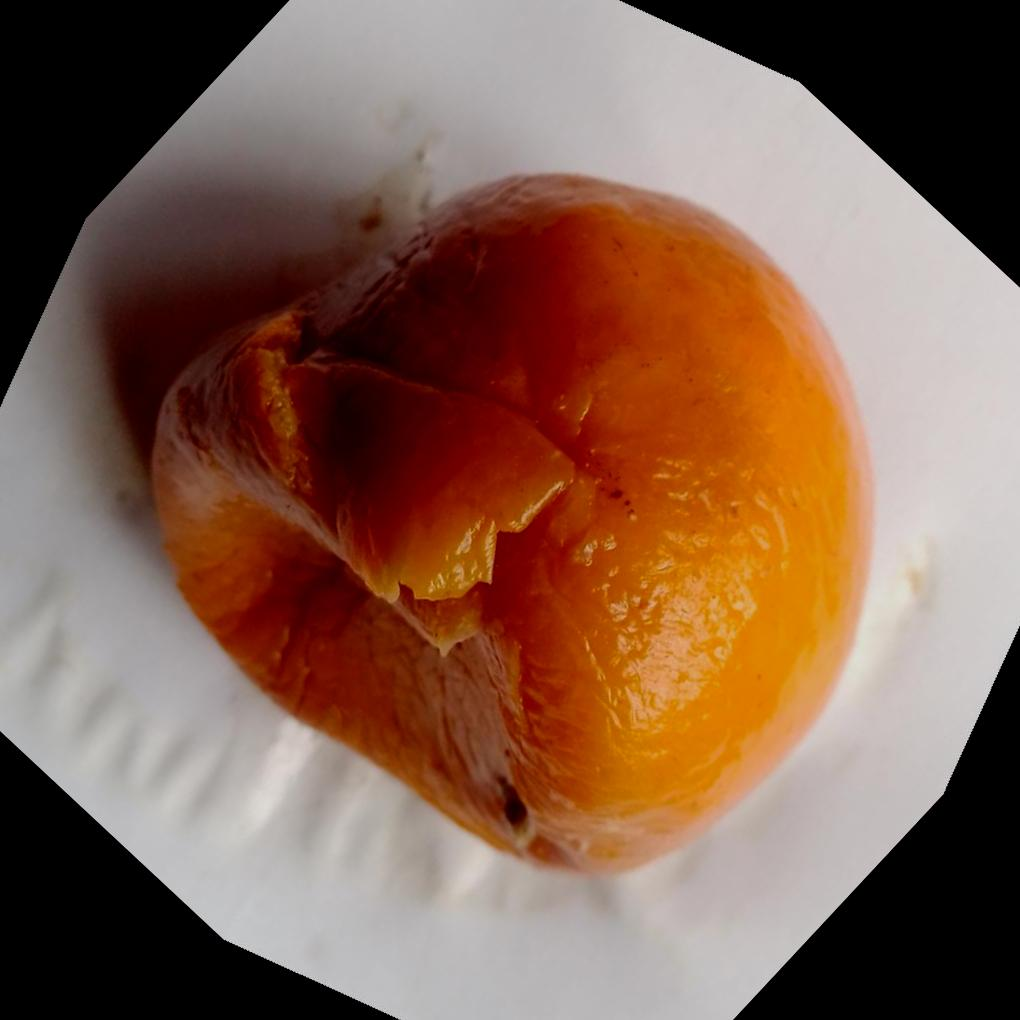FreshOrange: (144, 170, 874, 881)
